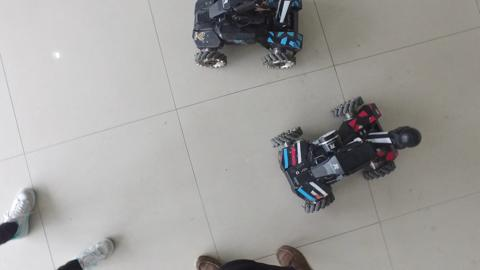chariot: (269, 89, 425, 217), (185, 1, 308, 76)
